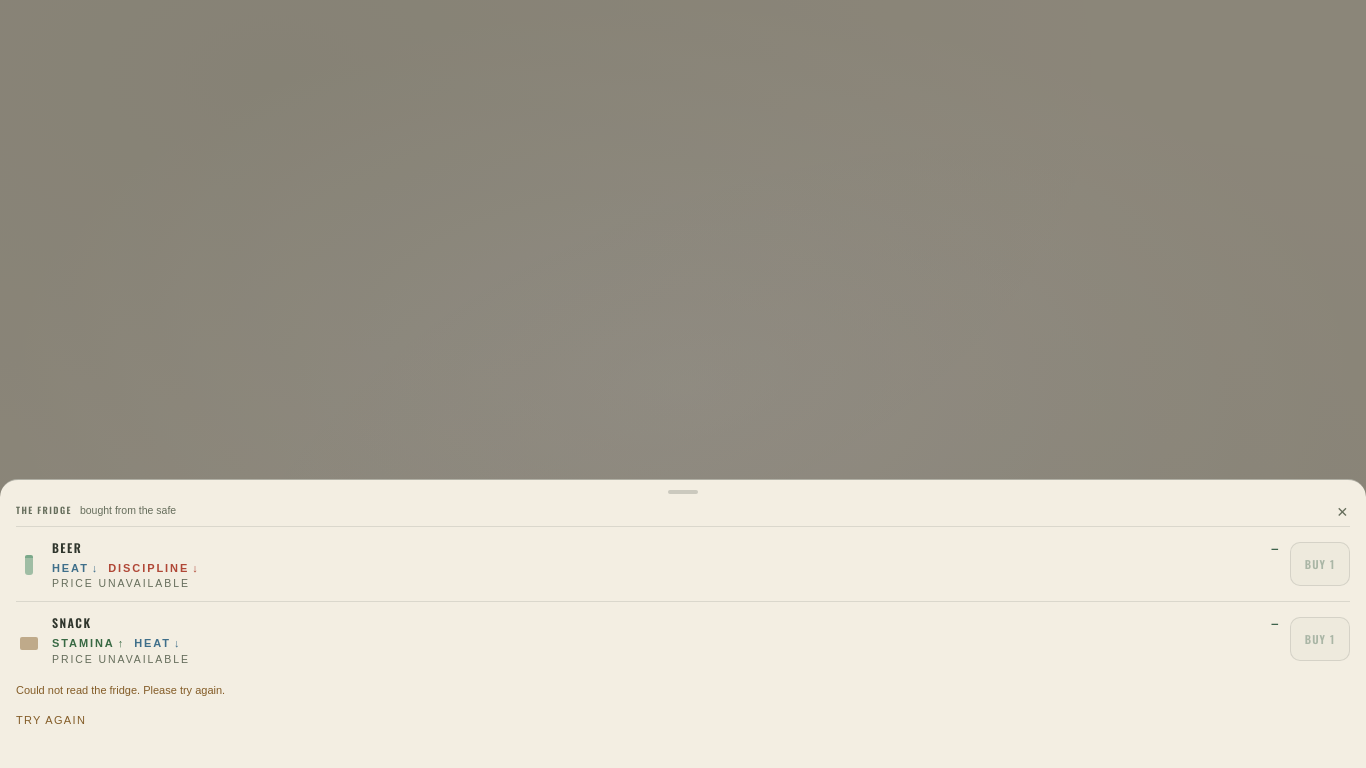
it: BUG-64: missing stock data is not shown as an empty fridge
Check: the message shows "Could not read", box left=16, top=684, right=225, bottom=696
Check: the text "out" is not shown
Click the button "Try again" at [51, 720], box left=16, top=698, right=86, bottom=742
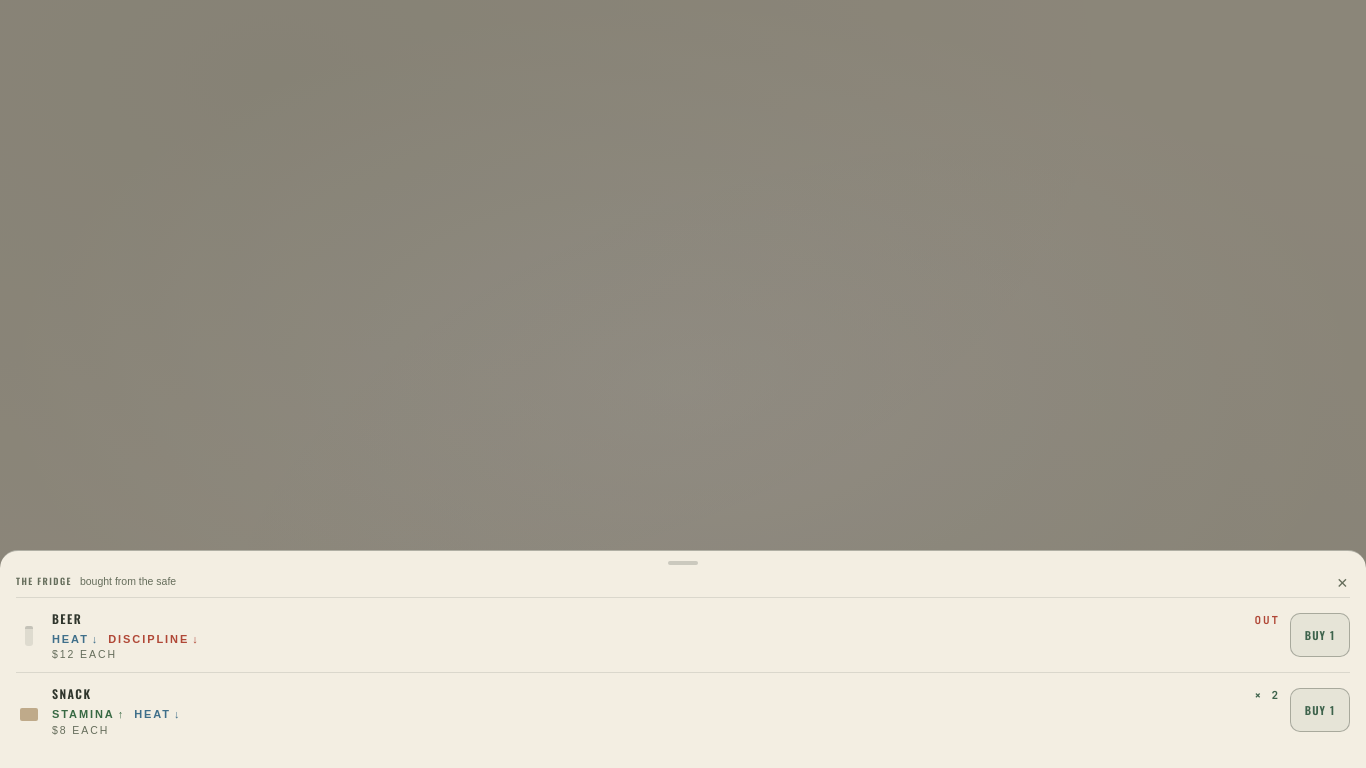
Check: the button with aria-label "Buy 1 beer" is enabled, box left=1290, top=614, right=1350, bottom=658
